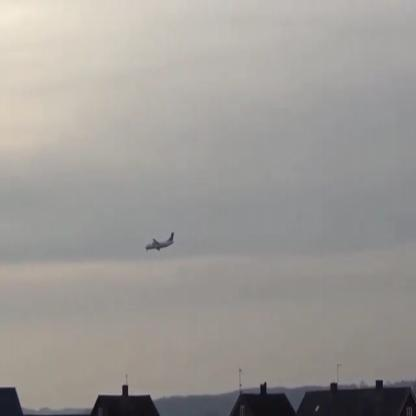CIV_Plane: (145, 232, 175, 253)
